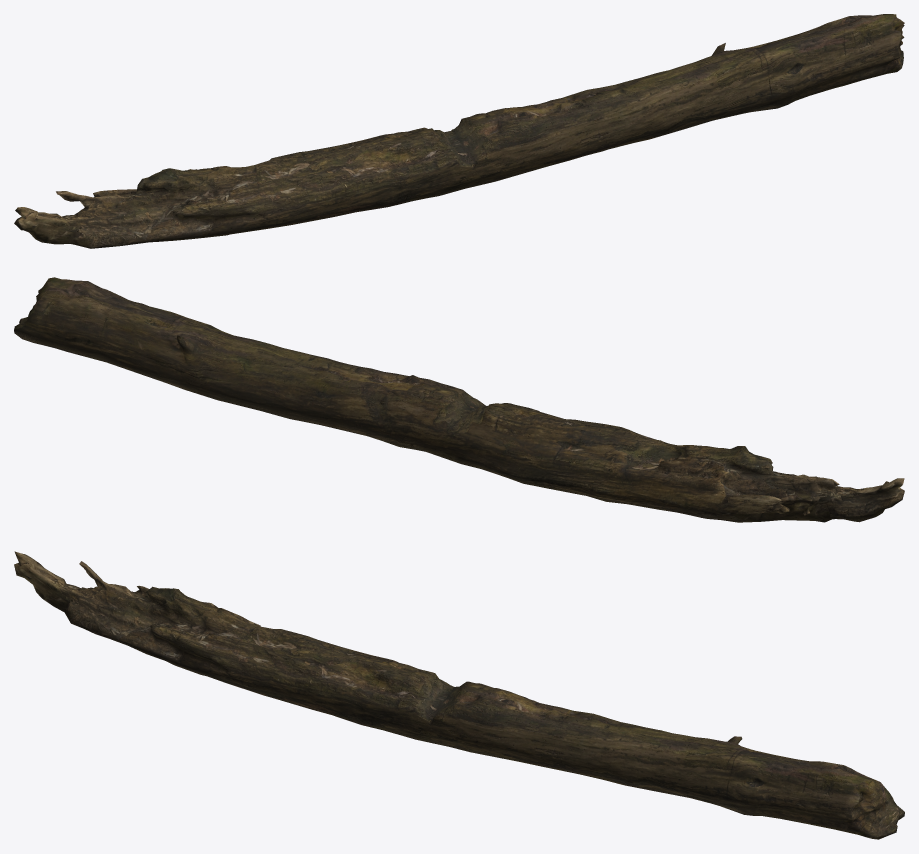
Rendered from SM_DeadTrunk_01.gltf.
The picture shows the model from 3 angles, top to bottom: view 1: azimuth 30°, elevation 25°; view 2: azimuth 150°, elevation 25°; view 3: azimuth 330°, elevation 25°; orthographic projection.
Parts seen in each view (by area): view 1: SM_DeadTrunk_01; view 2: SM_DeadTrunk_01; view 3: SM_DeadTrunk_01.
Part boxes in pixels (x1,y1,x2,y2): SM_DeadTrunk_01: (14,14,904,248); SM_DeadTrunk_01: (14,277,904,522); SM_DeadTrunk_01: (14,551,904,839).
Bounding box in the file's own units: 3.05 × 0.2901 × 0.2764.
1 material, 1 textured.
